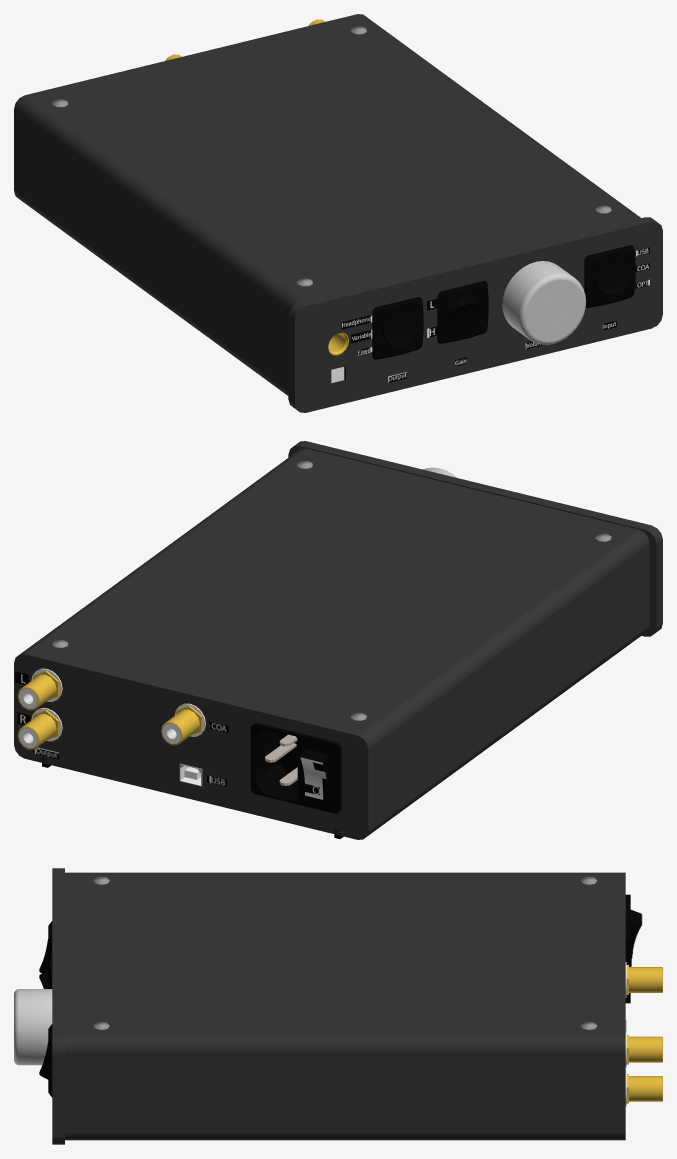
The model's file is Audio Amplifier 1.fbx.
3 views of the same model, one above another, from view 1: azimuth 30°, elevation 25°; view 2: azimuth 150°, elevation 25°; view 3: azimuth 270°, elevation 25° (orthographic).
Visible parts, largest first — view 1: Audio DAC Amp, Text Overlay; view 2: Audio DAC Amp, Text Overlay; view 3: Audio DAC Amp.
Part boxes in pixels (x1,y1,x2,y2): Audio DAC Amp: (14, 14, 662, 412); Text Overlay: (331, 247, 649, 383); Audio DAC Amp: (14, 441, 662, 839); Text Overlay: (15, 671, 327, 800); Audio DAC Amp: (14, 868, 662, 1144).
Size of the model in its own units: 16.62 by 4.86 by 25.47.
